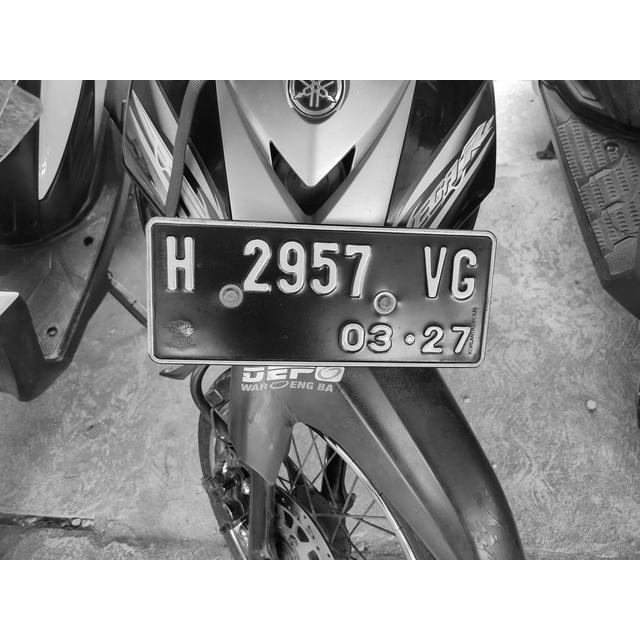license: (155, 227, 480, 360)
